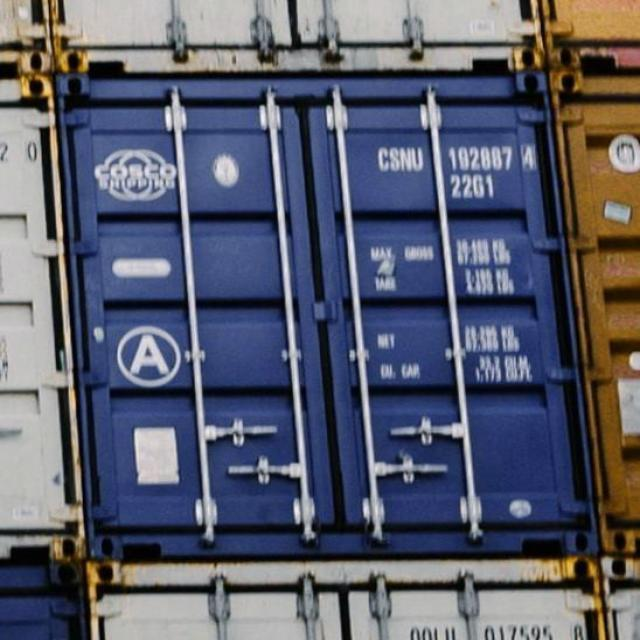ISO: (449, 169, 499, 200)
container_number: (373, 142, 539, 172)
